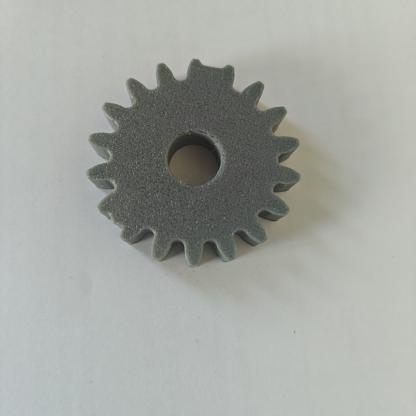defect: (172, 39, 250, 115), (88, 175, 158, 252)
gear: (76, 32, 313, 290)
